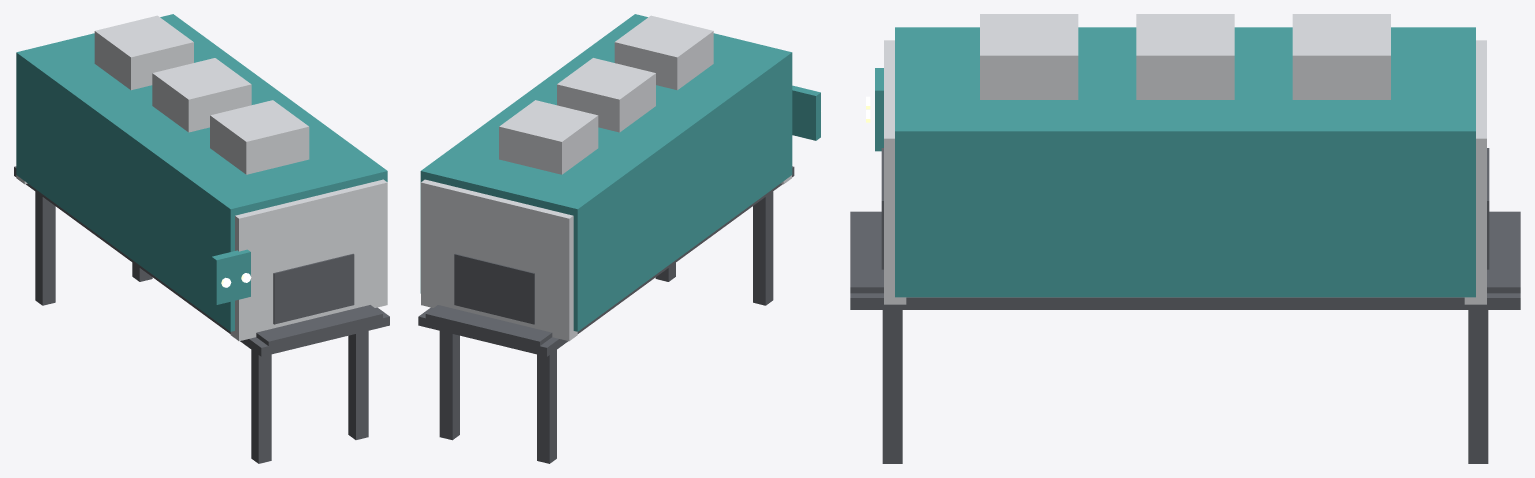
File: chocolate-and-confectionery-factory-cooling-tunnel-sec-d7c19a60__36765.glb
3 views of the same model, side by side, from view 1: azimuth 30°, elevation 25°; view 2: azimuth 150°, elevation 25°; view 3: azimuth 270°, elevation 25° (orthographic). The views are drawn at different scales.
Visible parts, largest first — view 1: cooling-tunnel-section; view 2: cooling-tunnel-section; view 3: cooling-tunnel-section.
Part boxes in pixels (box(x1,y1,x2,y2)): cooling-tunnel-section: box(14, 14, 389, 463); cooling-tunnel-section: box(418, 14, 821, 463); cooling-tunnel-section: box(850, 14, 1520, 463).
Size of the model in its own units: 1.25 by 1.94 by 3.
